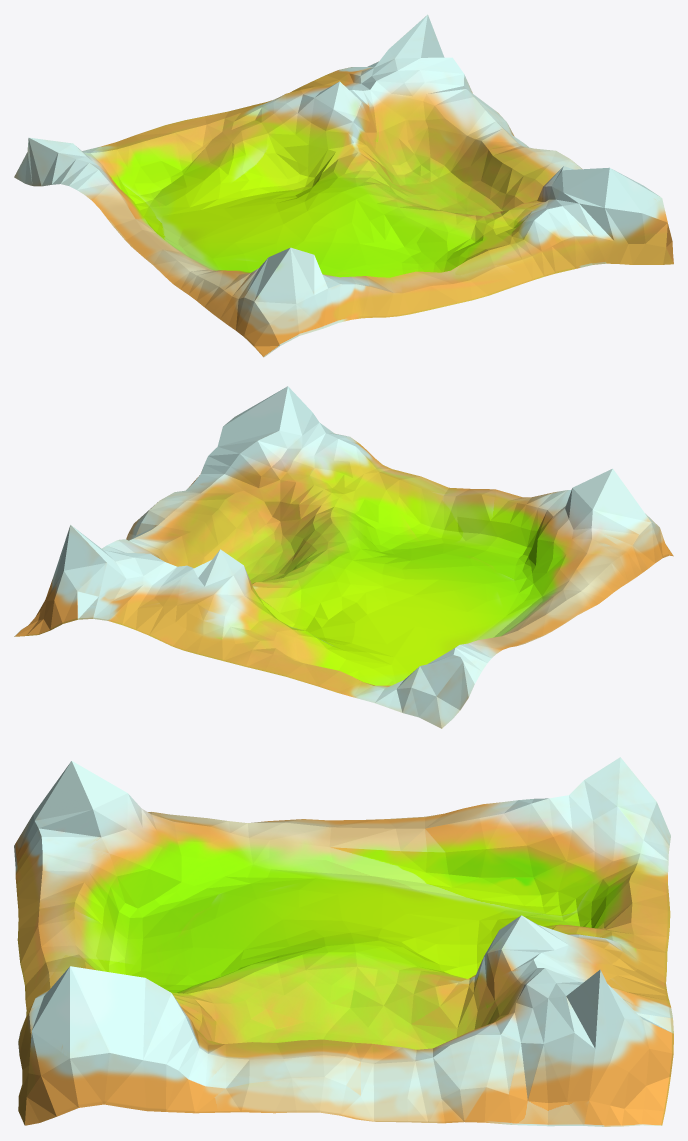
The model's file is Terrain.fbx.
3 views of the same model, one above another, from view 1: azimuth 30°, elevation 25°; view 2: azimuth 150°, elevation 25°; view 3: azimuth 270°, elevation 25° (orthographic). The views are drawn at different scales.
Parts seen in each view (by area): view 1: Plane; view 2: Plane; view 3: Plane.
Part boxes in pixels (x1,y1,x2,y2): Plane: [14, 14, 673, 357]; Plane: [14, 386, 673, 728]; Plane: [14, 757, 673, 1126].
Size of the model in its own units: 1284 by 296 by 1253.
Materials: 1 (1 with a texture image).
